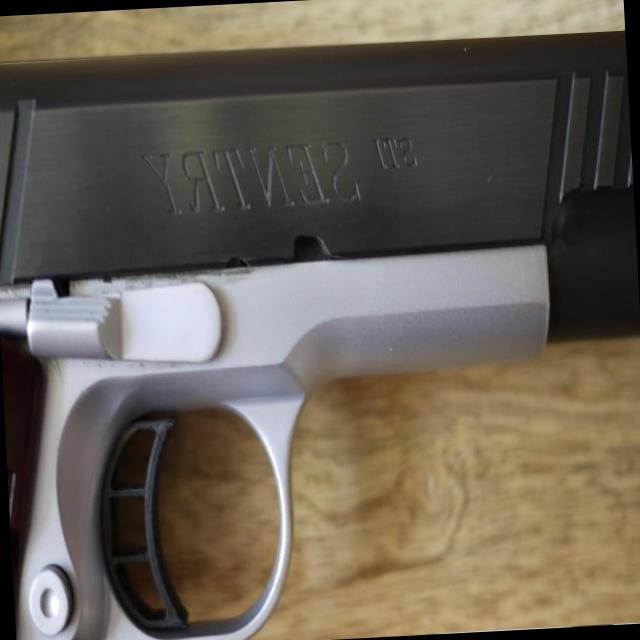Gun: (0, 33, 640, 640)
